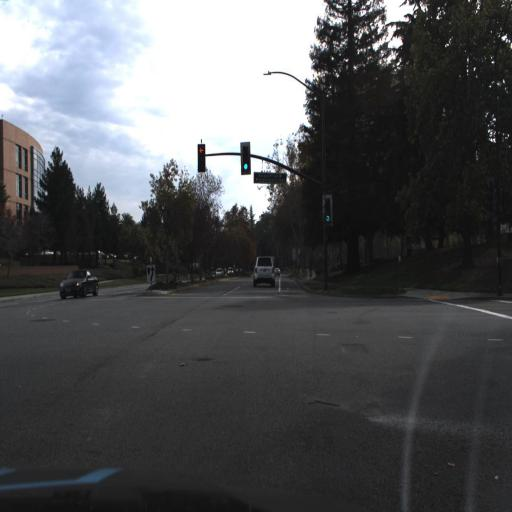car: (61, 264, 98, 300), (253, 254, 276, 290)
trafficLight: (238, 136, 251, 172), (324, 196, 335, 230)
trafficLight-RedLeft: (198, 144, 206, 174)
